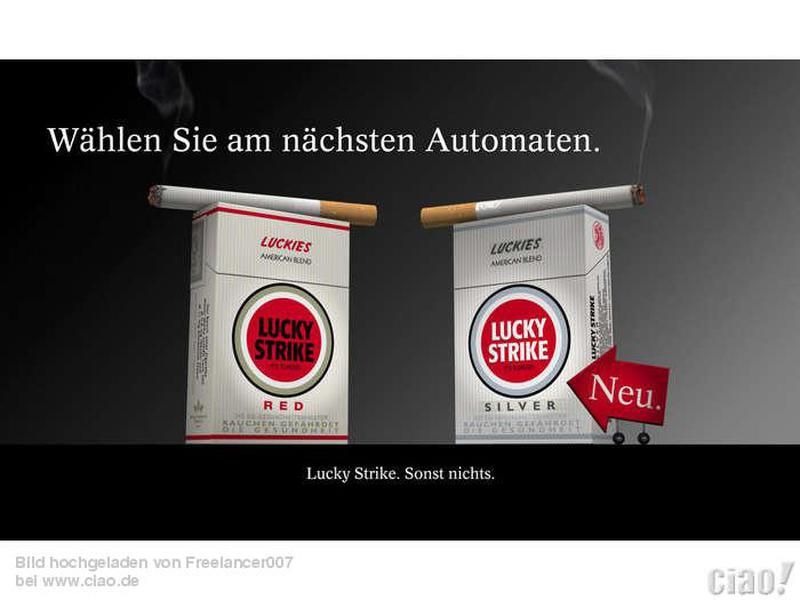lucky_strike_red: (209, 215, 348, 443), (454, 214, 591, 443)
